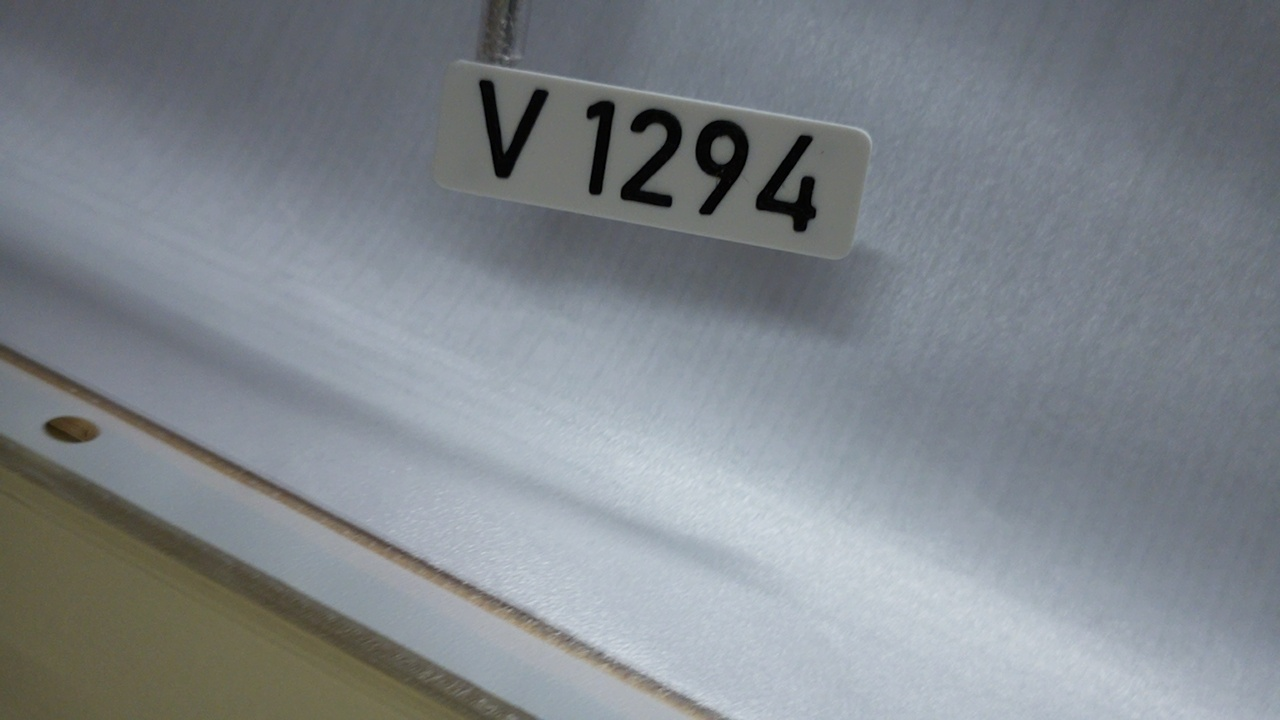license_plate: (431, 57, 875, 263)
